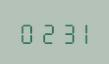one: (72, 20, 89, 44)
three: (54, 20, 71, 44)
two: (36, 20, 53, 44)
zero: (18, 20, 35, 44)
